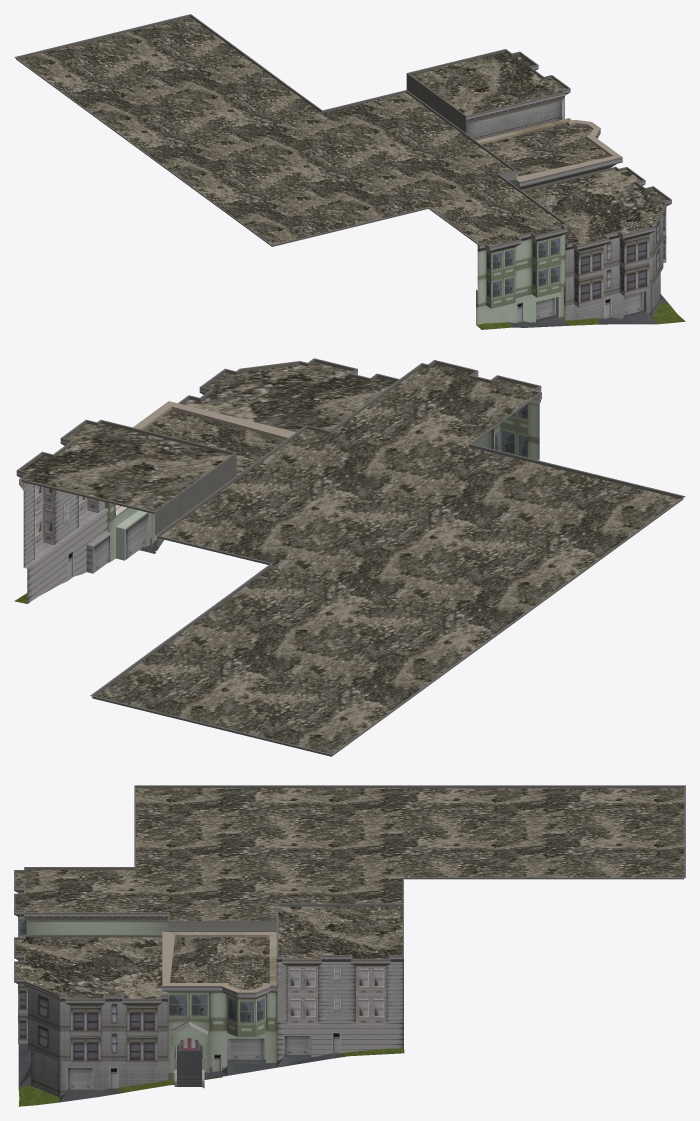
File: blokmod2_sfw.obj
3 views of the same model, one above another, from view 1: azimuth 30°, elevation 25°; view 2: azimuth 150°, elevation 25°; view 3: azimuth 270°, elevation 25° (orthographic). The views are drawn at different scales.
Visible parts, largest first — view 1: blokmod2_sfw; view 2: blokmod2_sfw; view 3: blokmod2_sfw.
Boxes of the visible parts, x1,y1,x2,y2 form: blokmod2_sfw: (14, 14, 685, 329); blokmod2_sfw: (14, 358, 685, 756); blokmod2_sfw: (14, 785, 685, 1106).
Bounding box in the file's own units: 78.76 × 28.16 × 114.
Materials: 21 (21 with a texture image).
